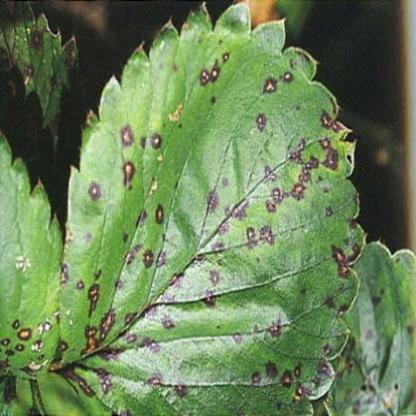Strawberry_Leaf_Spot: (45, 0, 369, 415), (312, 239, 415, 415), (0, 129, 63, 415), (0, 0, 77, 159)
